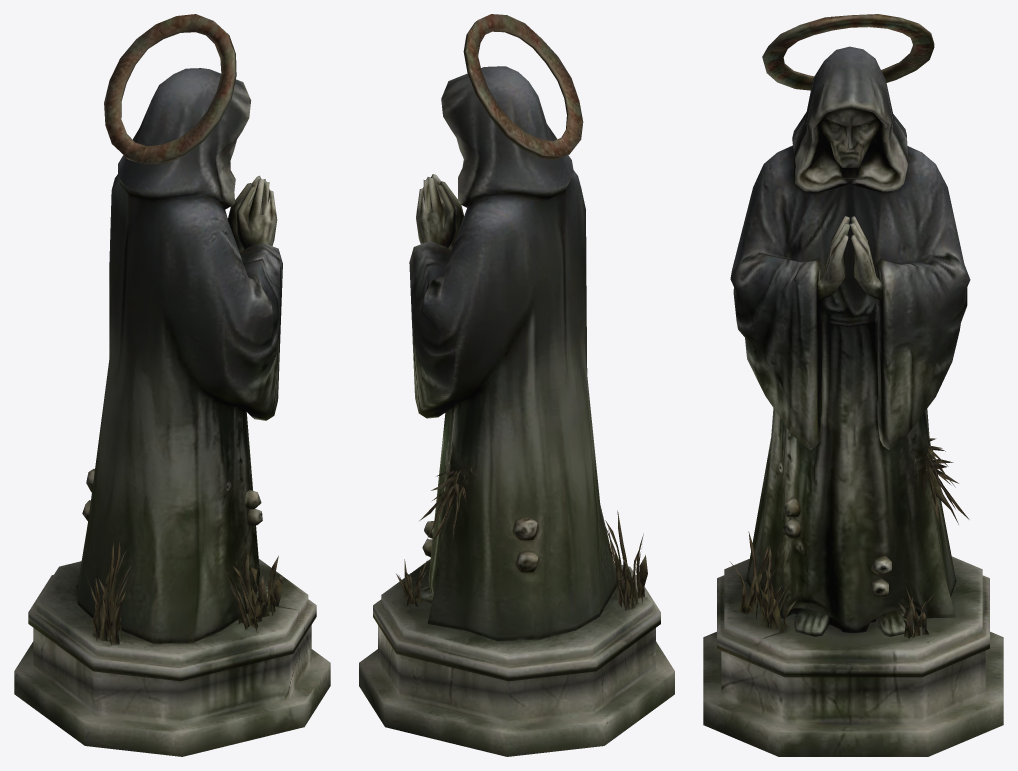
File: drowned_statue.glb
3 views of the same model, side by side, from view 1: azimuth 30°, elevation 25°; view 2: azimuth 150°, elevation 25°; view 3: azimuth 270°, elevation 25° (orthographic). The views are drawn at different scales.
Parts seen in each view (by area): view 1: tripo_node_294510a7-3e25-4ccc-9627-bbb1567da091; view 2: tripo_node_294510a7-3e25-4ccc-9627-bbb1567da091; view 3: tripo_node_294510a7-3e25-4ccc-9627-bbb1567da091.
Boxes of the visible parts, x1=… form: tripo_node_294510a7-3e25-4ccc-9627-bbb1567da091: x1=14, y1=14, x2=330, y2=756; tripo_node_294510a7-3e25-4ccc-9627-bbb1567da091: x1=359, y1=14, x2=674, y2=756; tripo_node_294510a7-3e25-4ccc-9627-bbb1567da091: x1=703, y1=14, x2=1003, y2=756.
Bounding box in the file's own units: 0.3887 × 0.998 × 0.3887.
Materials: 1 (1 with a texture image).
